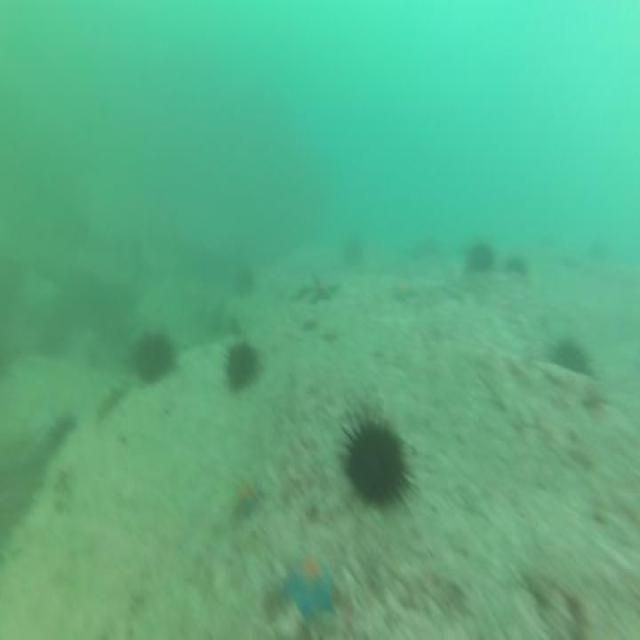echinus: (339, 403, 418, 514), (128, 328, 180, 388), (221, 335, 266, 397), (547, 330, 593, 381), (461, 236, 497, 282), (48, 410, 77, 450), (230, 261, 256, 302), (338, 228, 364, 268), (504, 246, 532, 282)
starfish: (280, 548, 339, 626), (230, 473, 268, 523)
